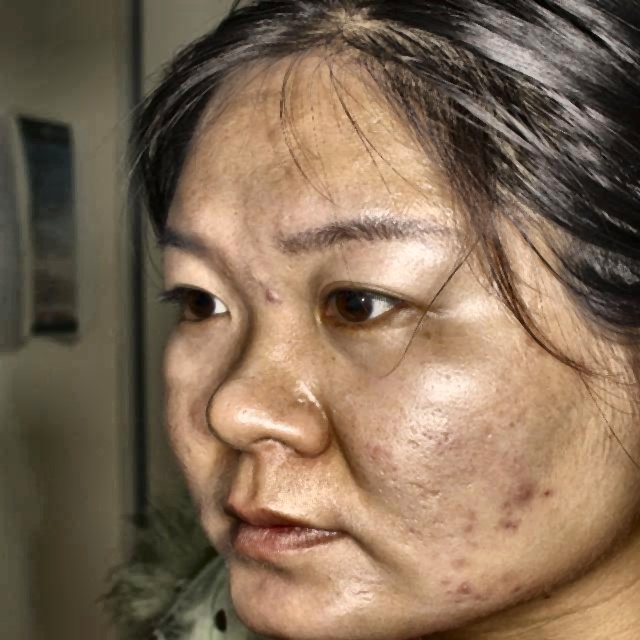pustule: (498, 570, 527, 604), (496, 513, 528, 539), (265, 283, 289, 316), (509, 485, 541, 509), (453, 550, 476, 567), (456, 578, 473, 596)
